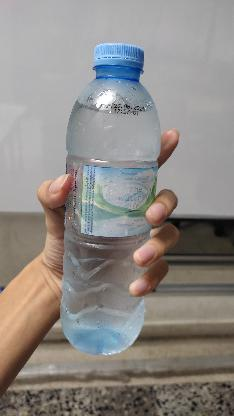Plastic Bottle: (58, 38, 162, 358)
